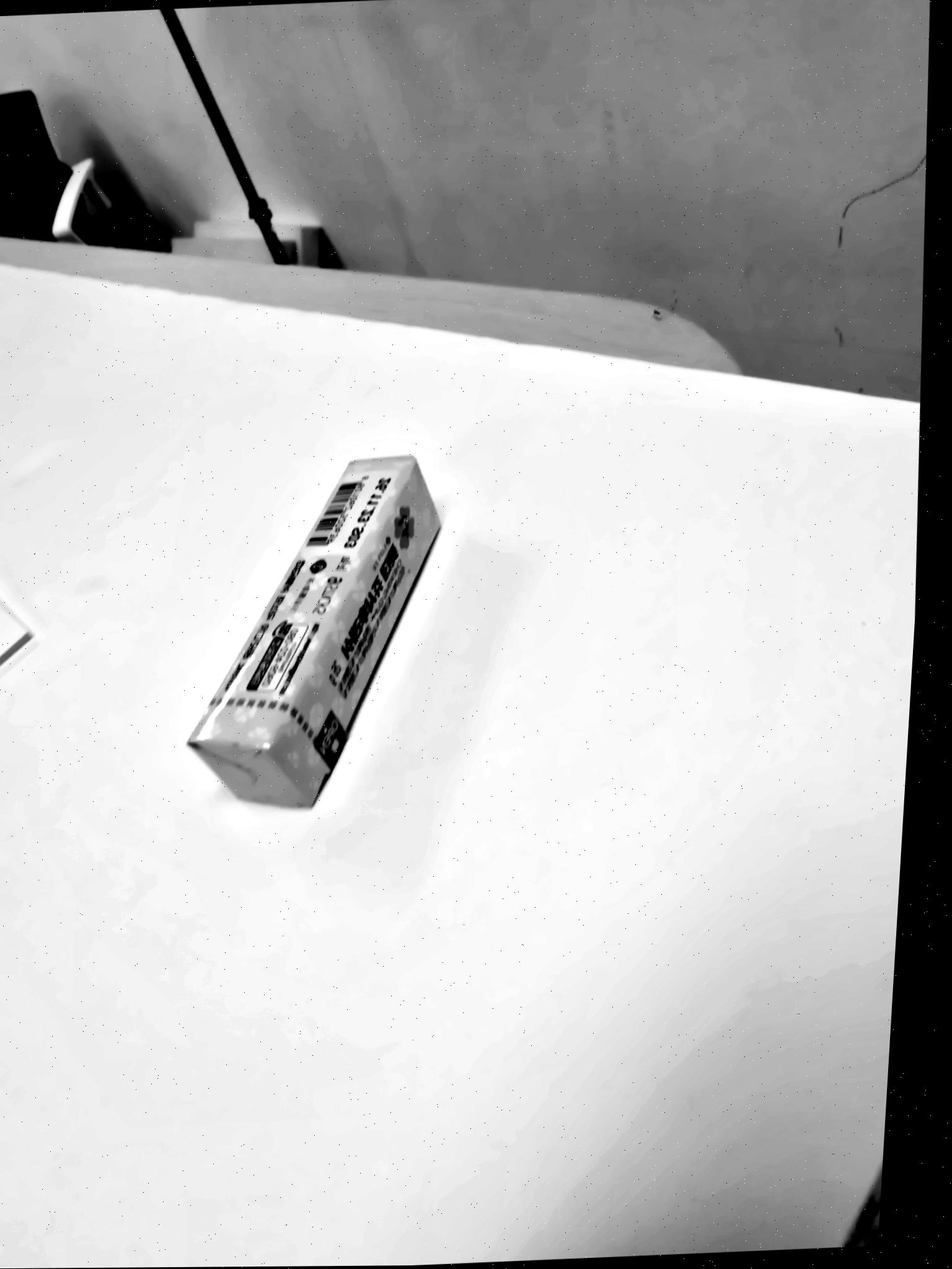gum_yellow: (189, 456, 439, 807)
